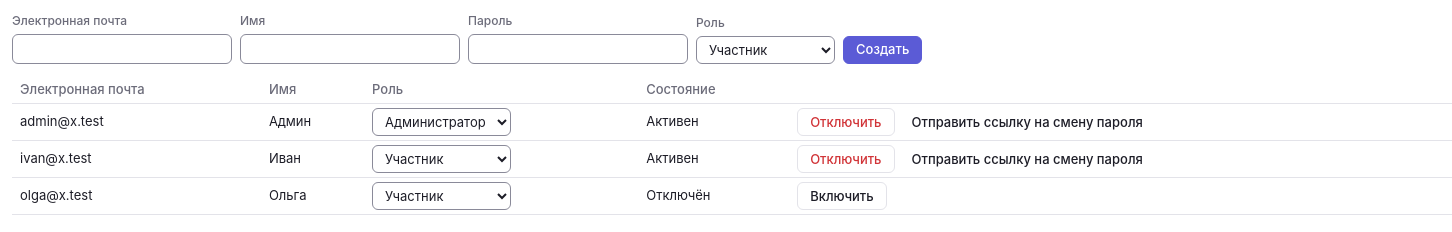
usersTab_disableAndEnable_user
Click the button with aria-label "Отключить ivan@x.test".
click(846, 159)  # box [797,145,894,173]
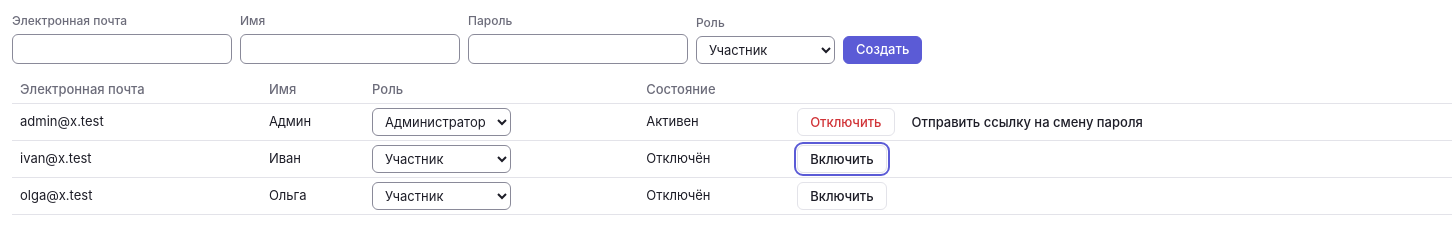
Expected: the button with aria-label "Включить ivan@x.test" is shown, [797,145,887,173]
Click the button with aria-label "Включить olga@x.test".
click(842, 196)  # box [797,182,887,210]
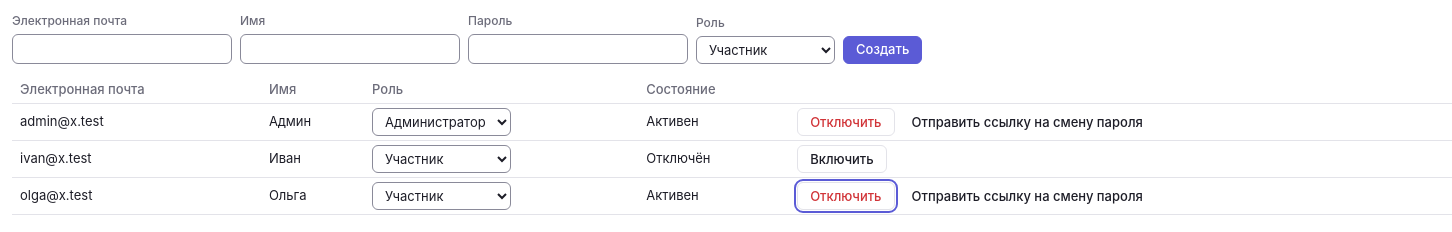
Expected: the button with aria-label "Отключить olga@x.test" is shown, [797,182,894,210]
